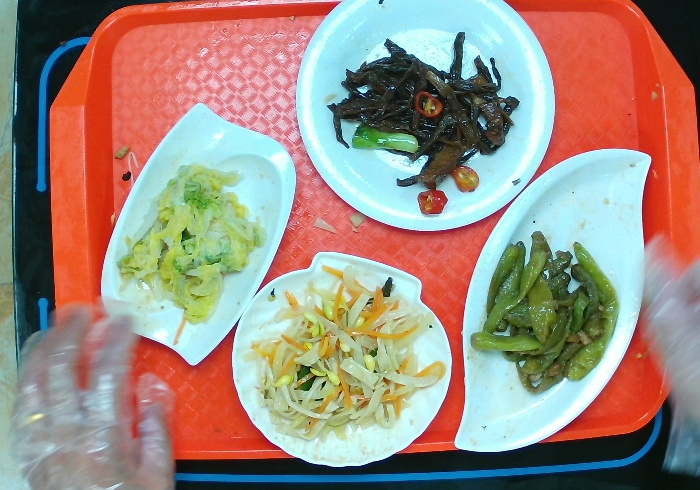RJxy-Bei_Ke_Wan: (229, 245, 455, 470)
RJxy-Jian_Jiao_Fang_Die: (99, 104, 291, 366)
RJxy-Jian_Jiao_Pan: (455, 148, 660, 455)
RJxy-Yuan_Pan: (292, 1, 553, 232)
